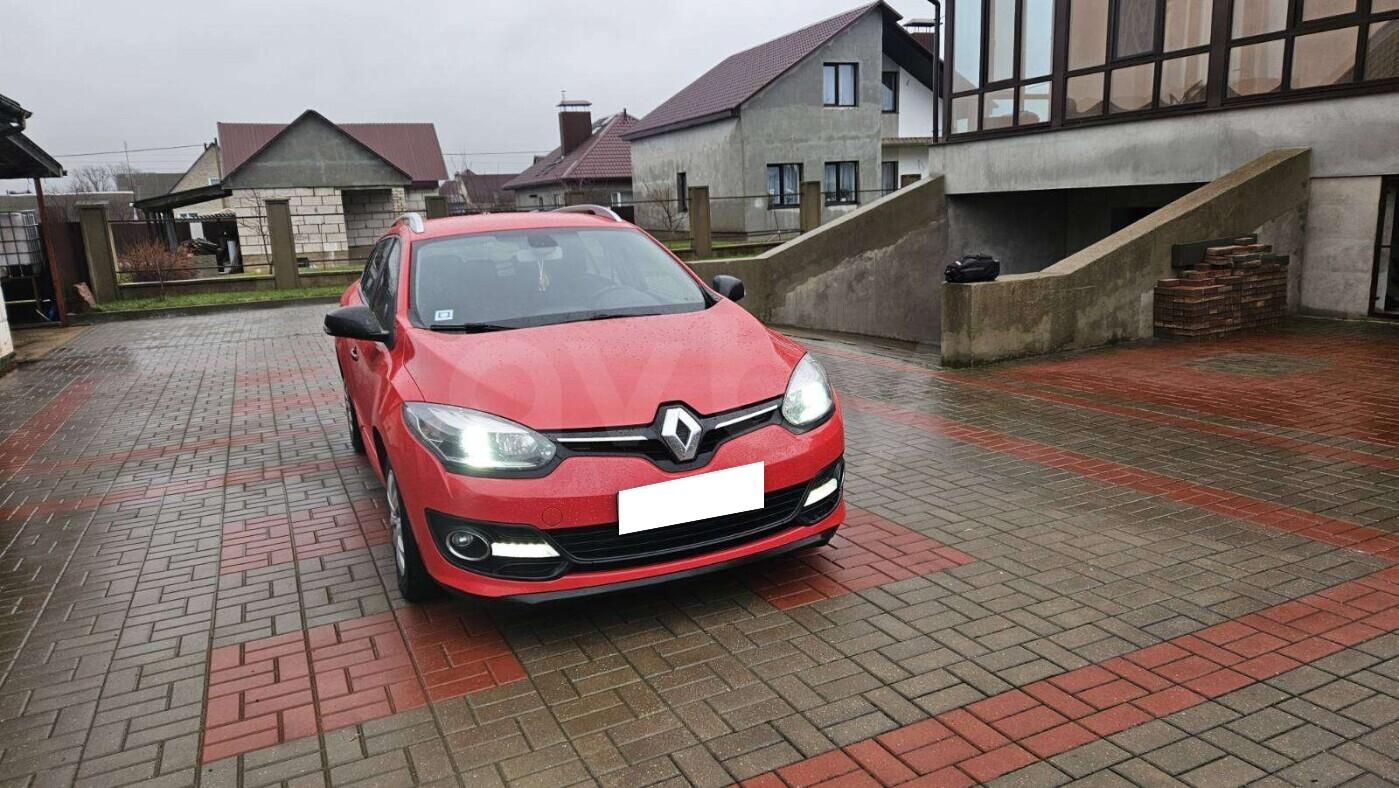Megane_2012-2014: (324, 210, 861, 597)
